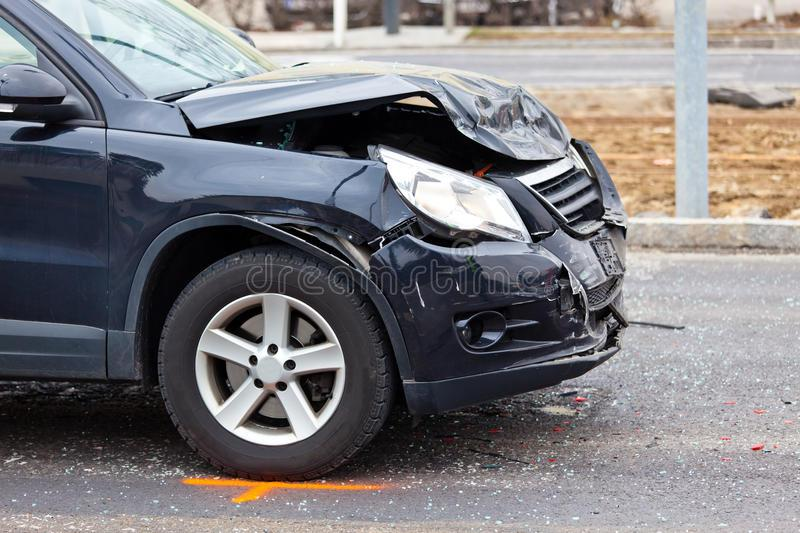Headlight-Damage: (363, 139, 539, 243)
bonnet-dent: (175, 44, 583, 173)
fender-dent: (108, 123, 355, 291)
front-bumper-dent: (359, 223, 643, 390)
